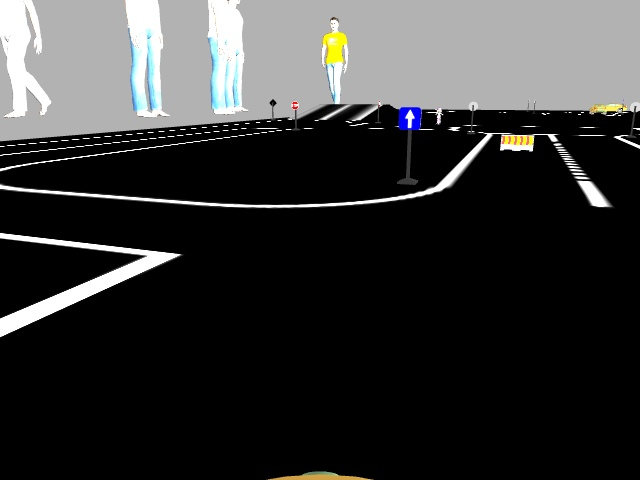ClosedRoadStand: (501, 133, 534, 149)
OneWay: (399, 106, 419, 128)
